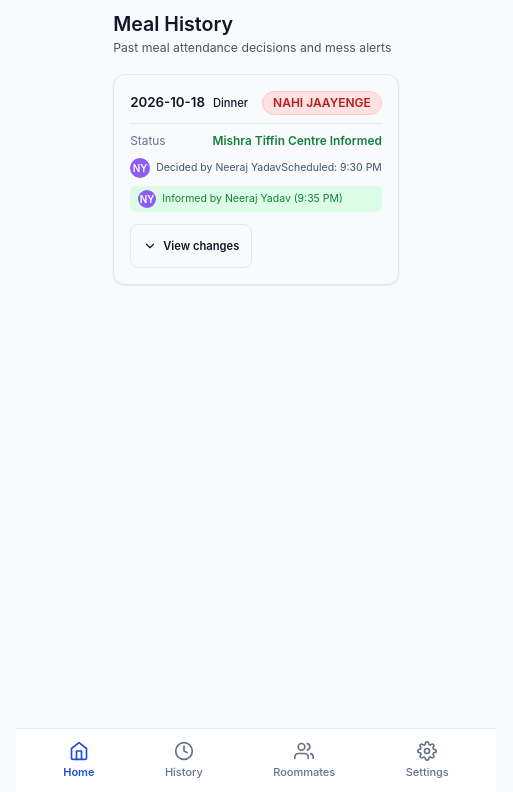
Frontend Component Tests › HistoryPage Change Timeline & Expand/Collapse › renders collapsed row with final decision and expands timeline on View changes
The width and height of the screenshot is (513, 792).
Expected: the text "2026-10-18" is shown, [130,93,205,113]
Expected: the text "NAHI JAAYENGE" is shown, [262,91,382,115]
Click the button with test id "toggle-changes-2026-10-18-DINNER" at (191, 246), box [130,224,252,268]
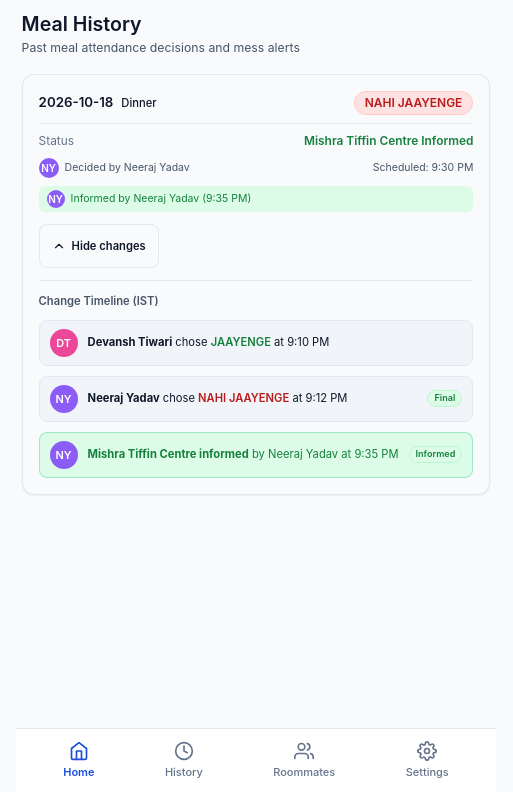
Expected: the element with test id "timeline-2026-10-18-DINNER" is shown, [39,280,473,478]
Expected: the button with test id "toggle-changes-2026-10-18-DINNER" reads "Hide changes"
Expected: the element with test id "timeline-item-1" shows "Devansh Tiwari", [88,335,172,349]
# Click "Hide changes" to collapse
Click the button with test id "toggle-changes-2026-10-18-DINNER" at (99, 246), box [39,224,159,268]
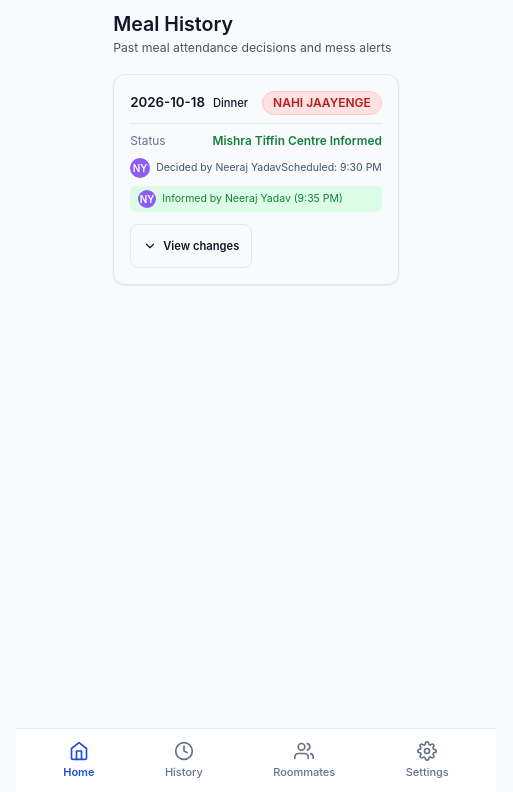
Expected: the element with test id "timeline-2026-10-18-DINNER" is gone
Expected: the button with test id "toggle-changes-2026-10-18-DINNER" reads "View changes", [130,224,252,268]
